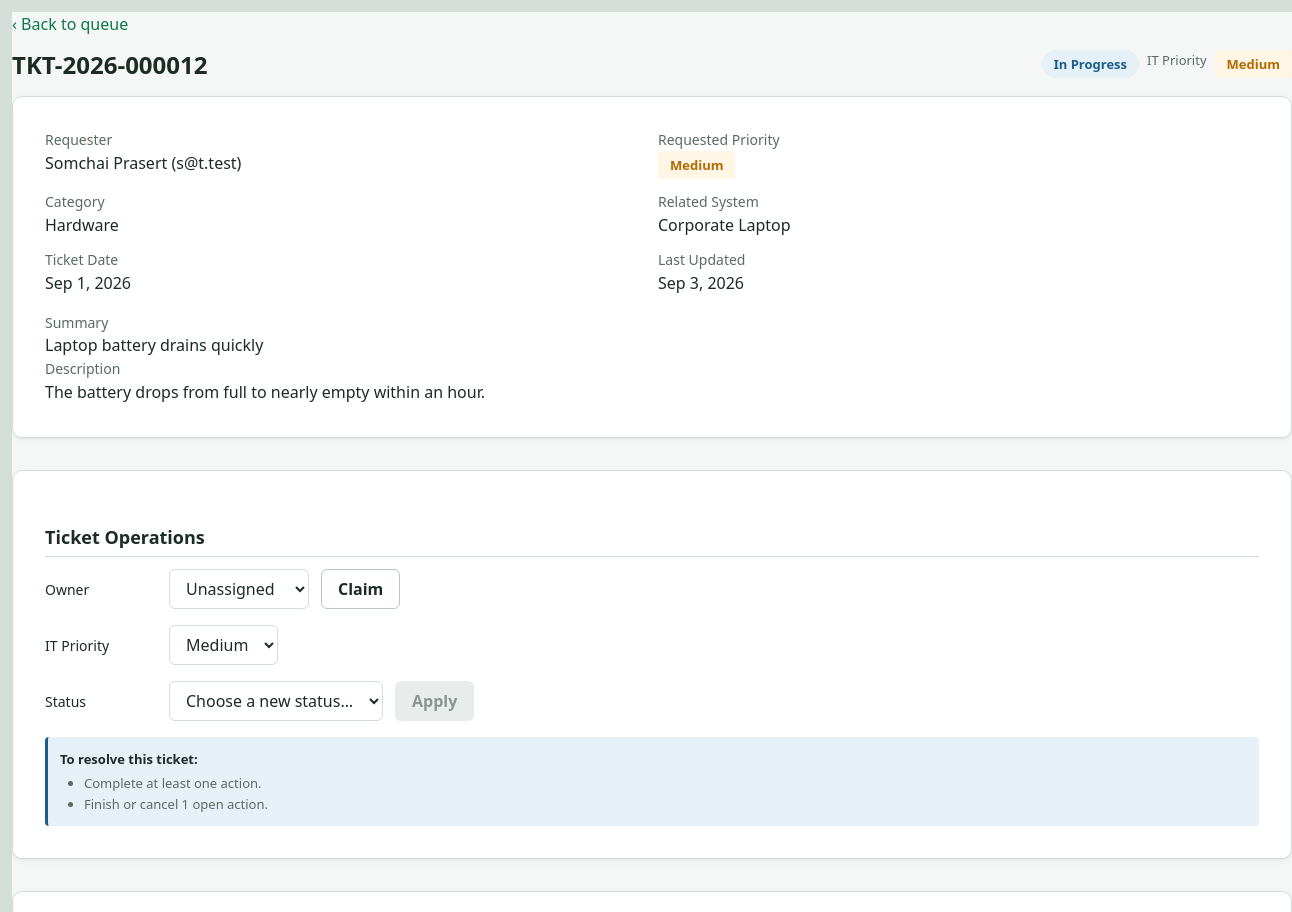
Test case: UI-18: a stale status change shows the conflict banner and keeps the chosen target
The image size is (1292, 912).
Expected: the element "Ticket Operations" is shown, [12,470,1291,859]
Select "Cancelled" in the dropdown labelled "Status". click: (276,701)
box: [169,681,383,721]
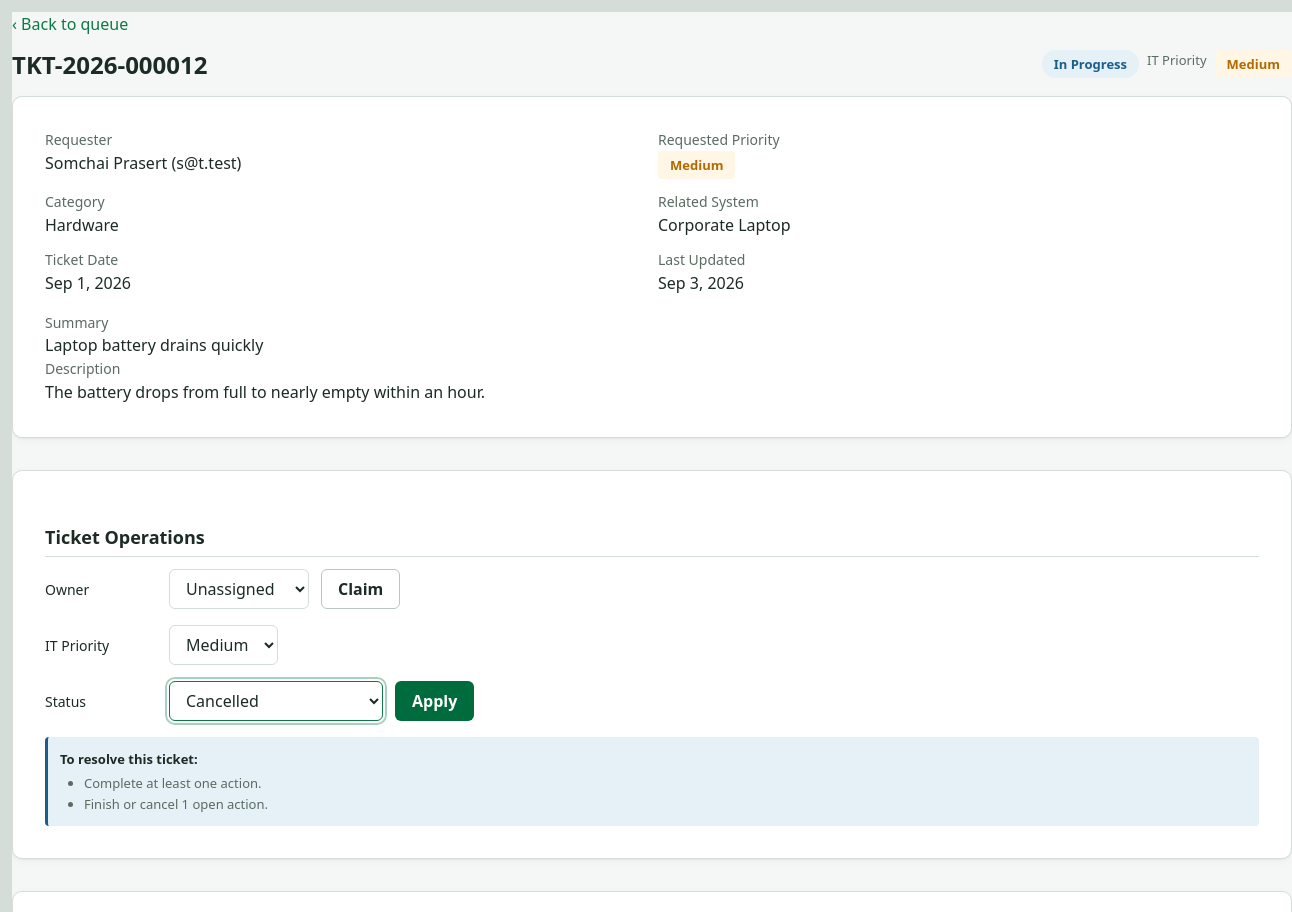
Select "Waiting for Requester" in the dropdown labelled "Status". click: (276,701)
box: [169,681,383,721]
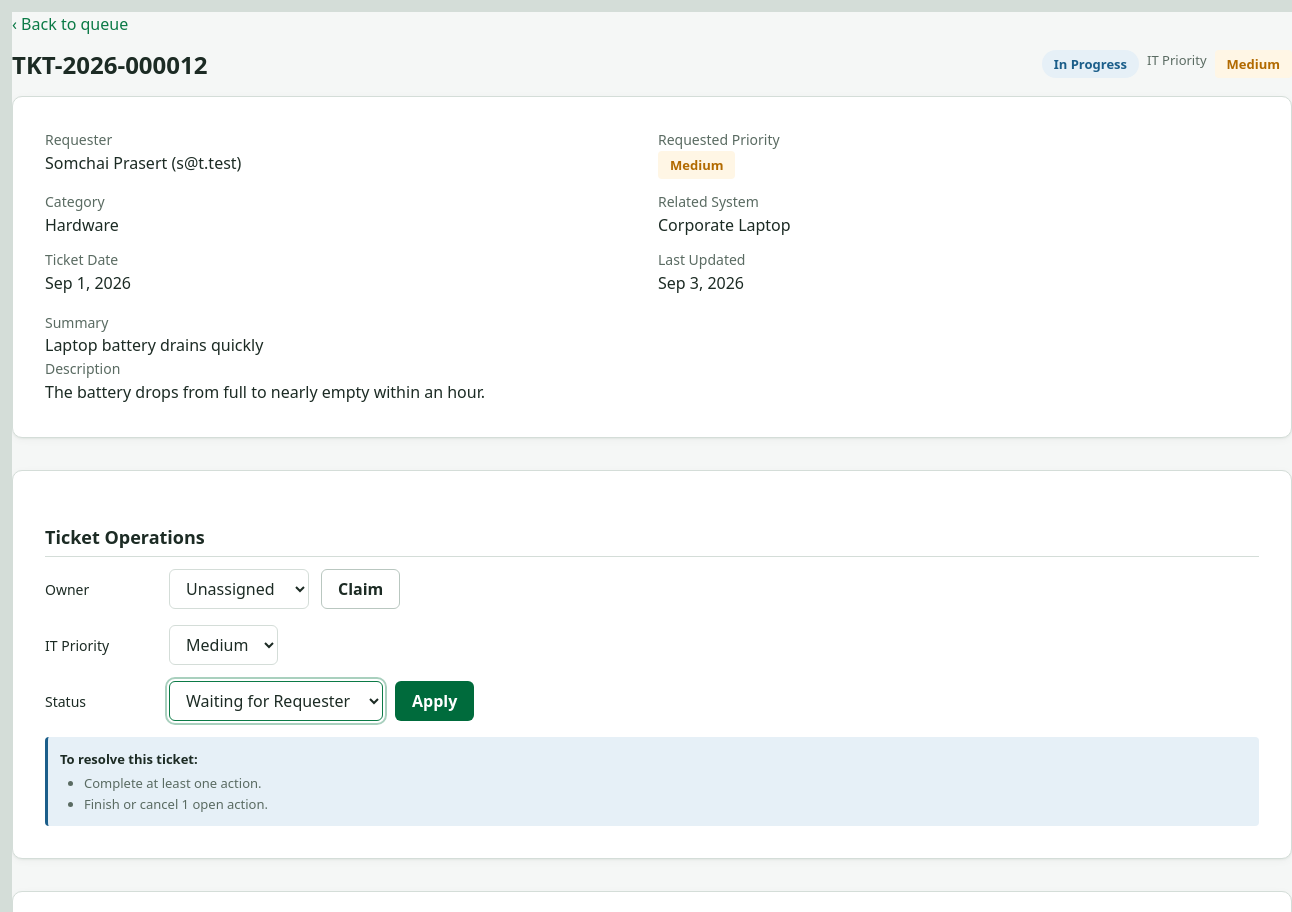
Click the button "Apply". click: (435,701)
box: [395,681,474,721]
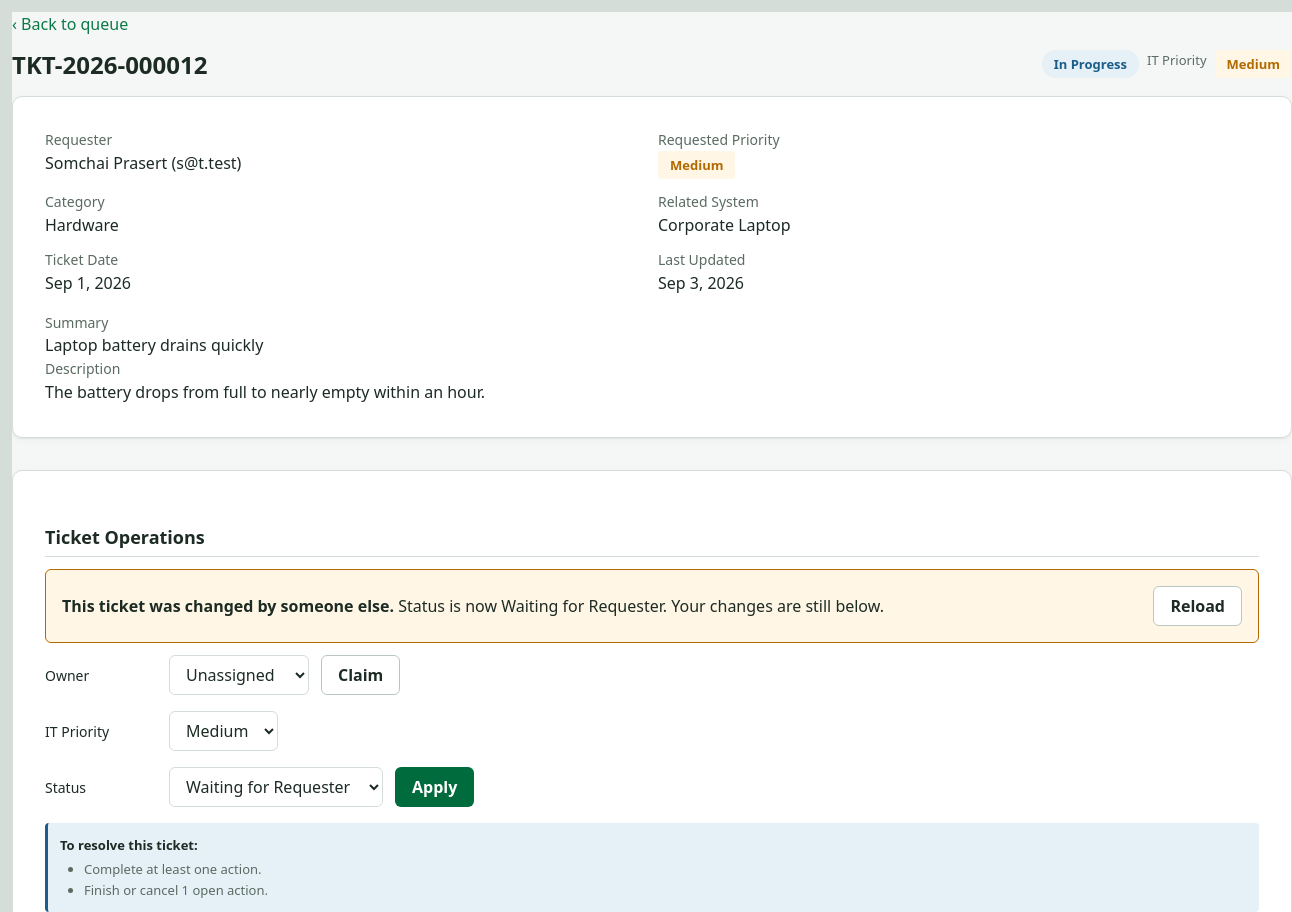
Now the message shows "This ticket was changed by someone else.", box [62,595,394,617]
Now the message shows "Status is now Waiting for Requester.", box [398,595,667,617]
Click the button "Reload". click: (1198,606)
box: [1153,586,1242,626]
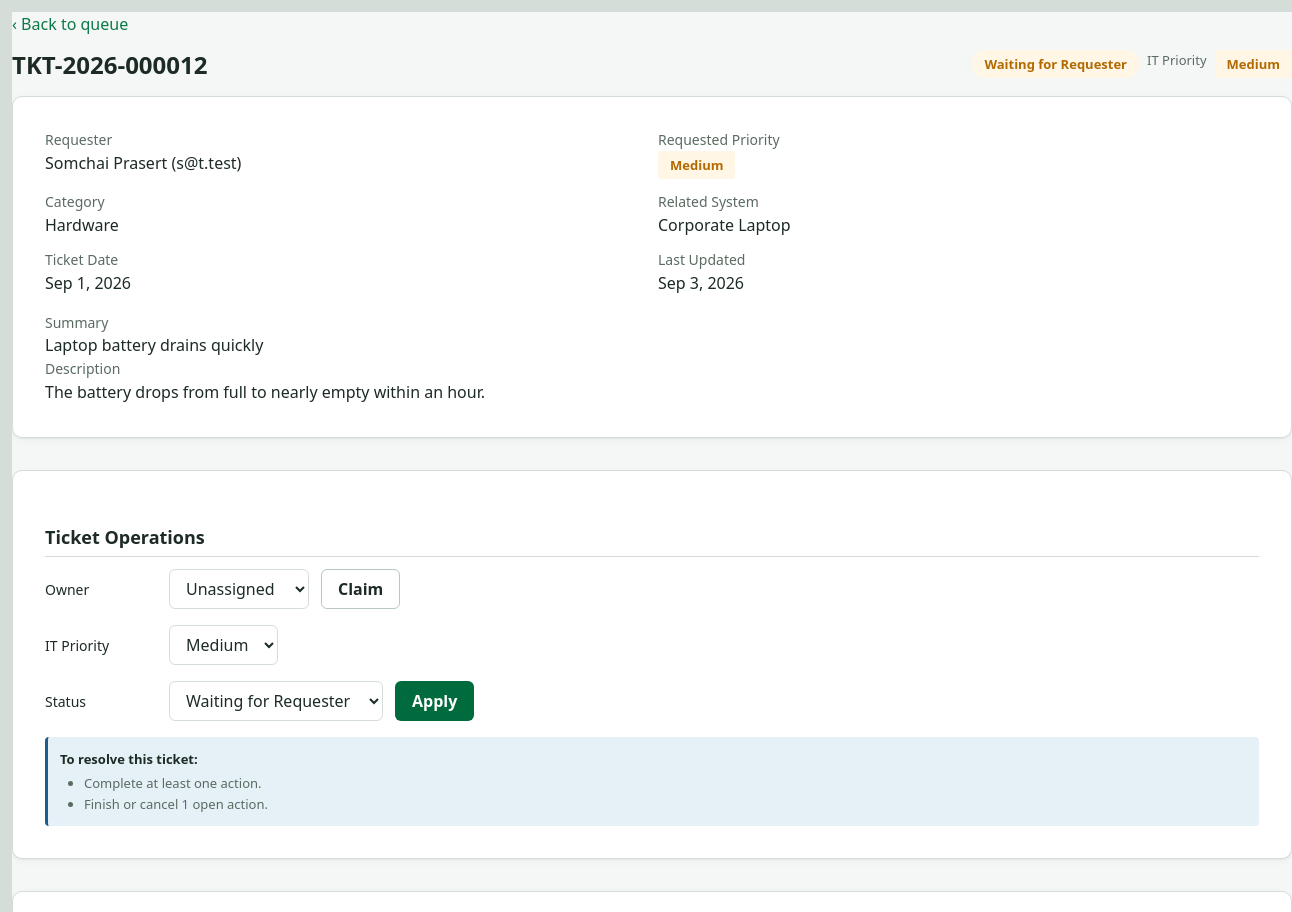
Now the message is gone
